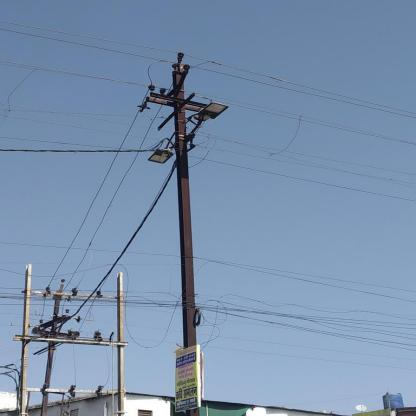Electrical Pole: (138, 47, 239, 415)
